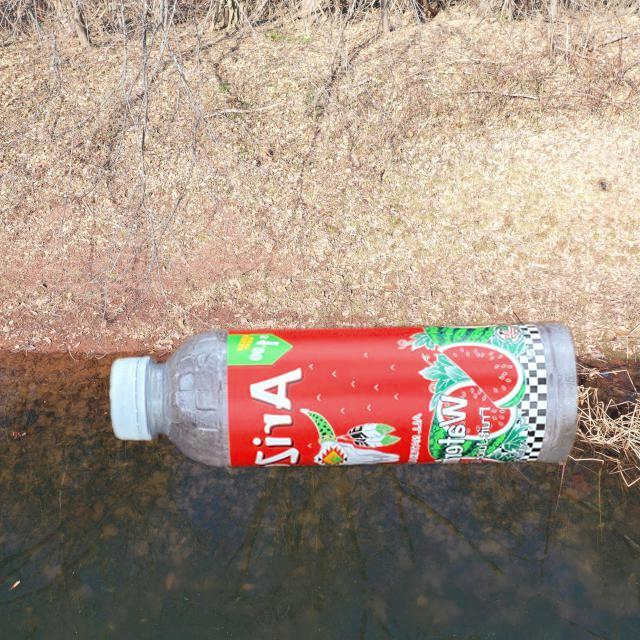Plastic: (105, 317, 583, 471)
